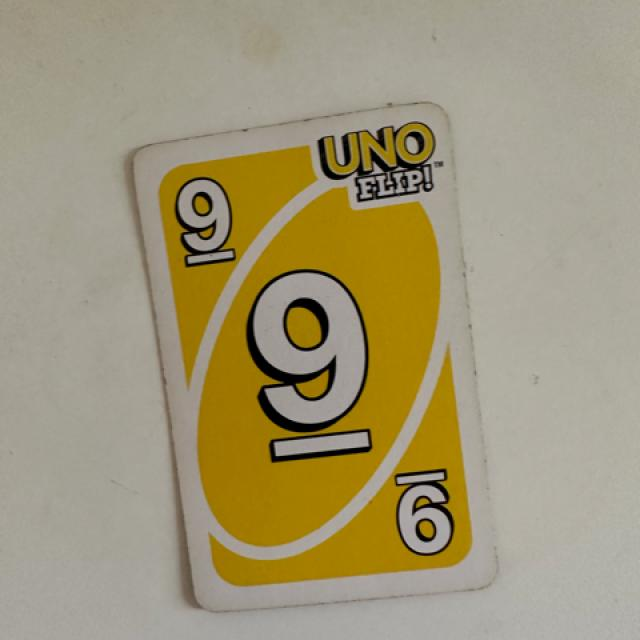lyellow-9: (156, 157, 261, 275)
